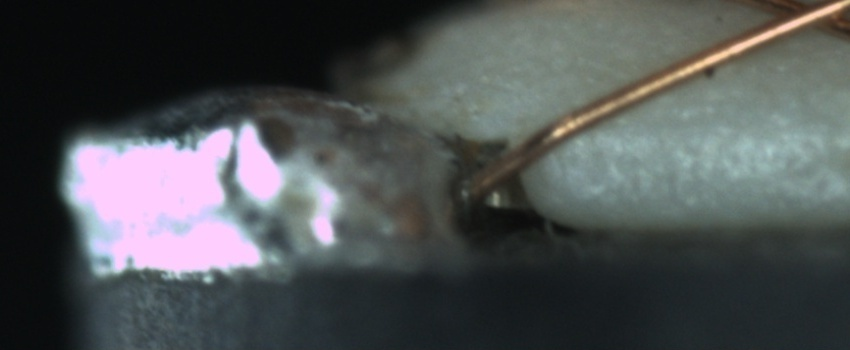CL: (744, 0, 850, 41)
DL: (616, 90, 848, 160)
